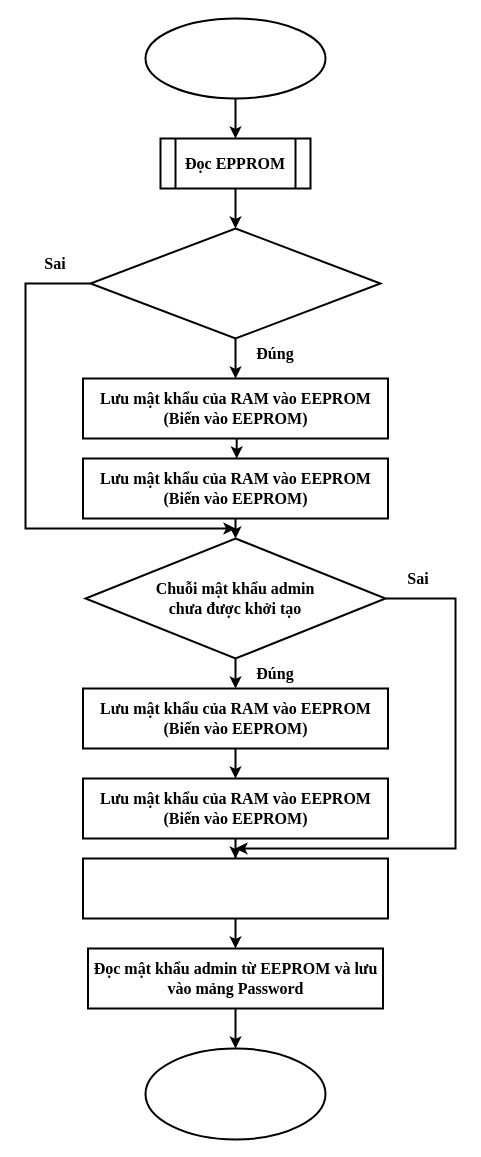
Some shapes in this 481 by 1157 pixel diagram are drawn without their labels. Here are the shapes that lost their labels. From the top down, the centre of each, then its label:
At pixel 235 58: "Bắt đầu init_keypadcheck".
At pixel 235 283: "Chuỗi mật khẩu người dùng chưa được khởi tạo".
At pixel 235 888: "Đọc mật khẩu admin từ EEPROM và lưu vào mảng keyofadmin".
At pixel 235 1093: "Kết thúc init_keypadcheck".
